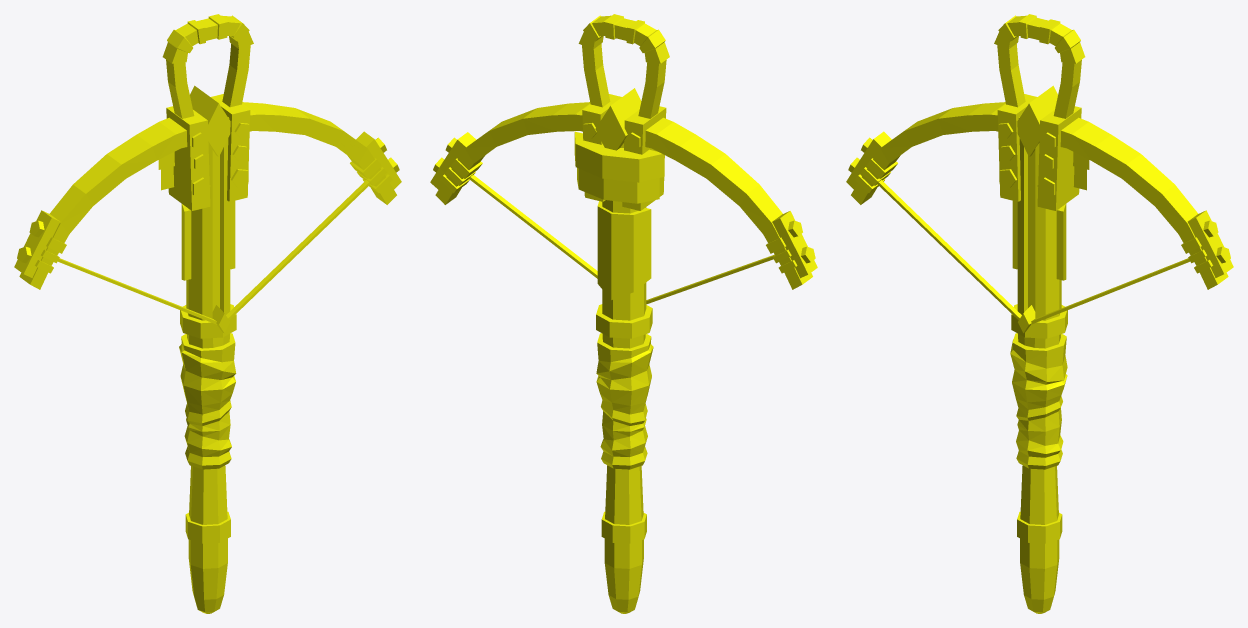
The model's file is _crossbow_14.glb.
3 renders of one model, left to right at view 1: azimuth 30°, elevation 25°; view 2: azimuth 150°, elevation 25°; view 3: azimuth 330°, elevation 25°, orthographic.
Visible parts, largest first — view 1: crossbow_14; view 2: crossbow_14; view 3: crossbow_14.
Boxes of the visible parts, x1,y1,x2,y2 form: crossbow_14: (14,14,401,613); crossbow_14: (430,14,817,613); crossbow_14: (846,14,1233,613).
Size of the model in its own units: 21196 by 31601 by 3723.
